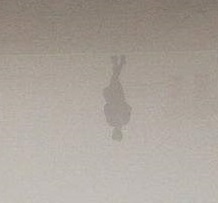person: (103, 55, 132, 141)
